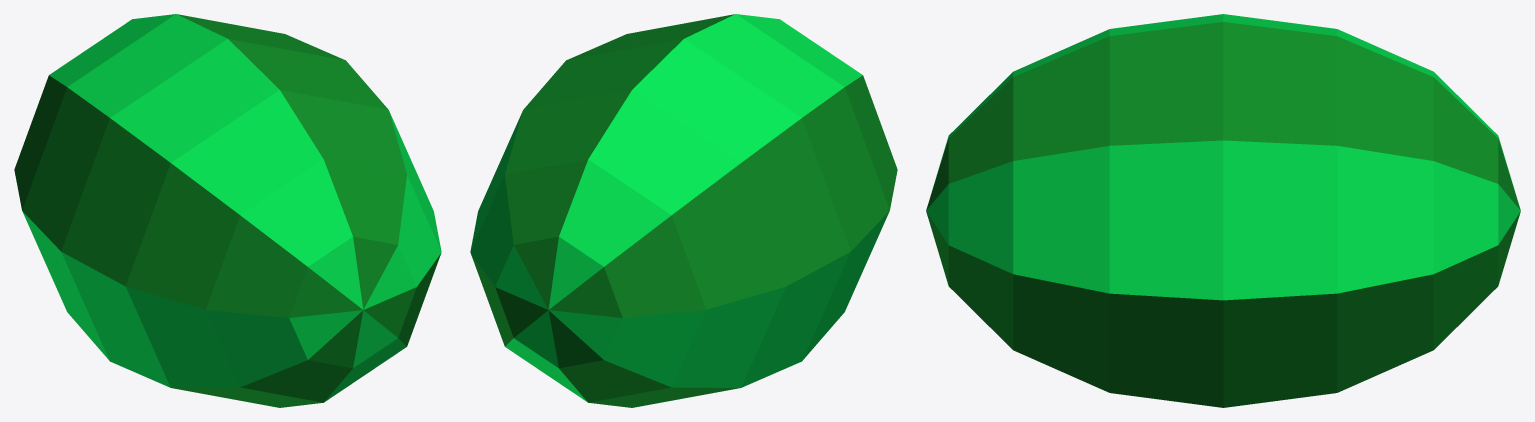
File: Watermelon.glb
3 views of the same model, side by side, from view 1: azimuth 30°, elevation 25°; view 2: azimuth 150°, elevation 25°; view 3: azimuth 270°, elevation 25° (orthographic). The views are drawn at different scales.
Parts seen in each view (by area): view 1: Sphere; view 2: Sphere; view 3: Sphere.
Part boxes in pixels (bbox=[...]): Sphere: bbox=[14, 14, 441, 407]; Sphere: bbox=[470, 14, 897, 407]; Sphere: bbox=[926, 14, 1520, 407].
Size of the model in its own units: 2.03 by 2 by 2.85.
